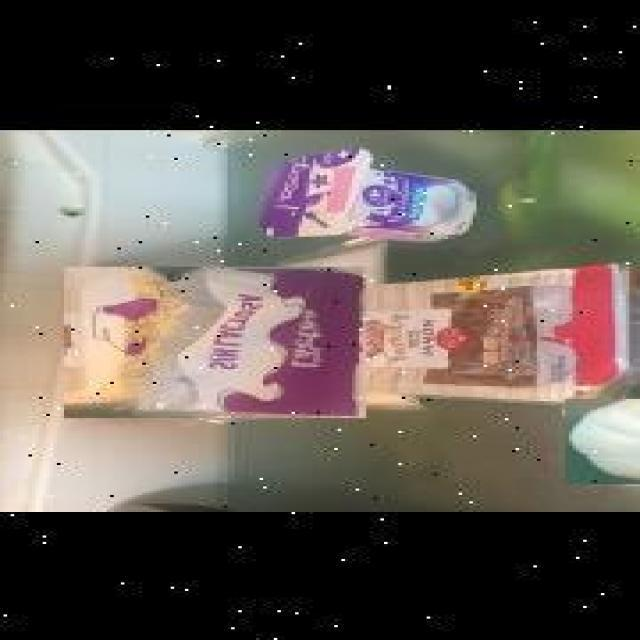garlic: (565, 397, 640, 482)
grated_cheese: (64, 264, 366, 416)
yogurt: (258, 161, 486, 238)
